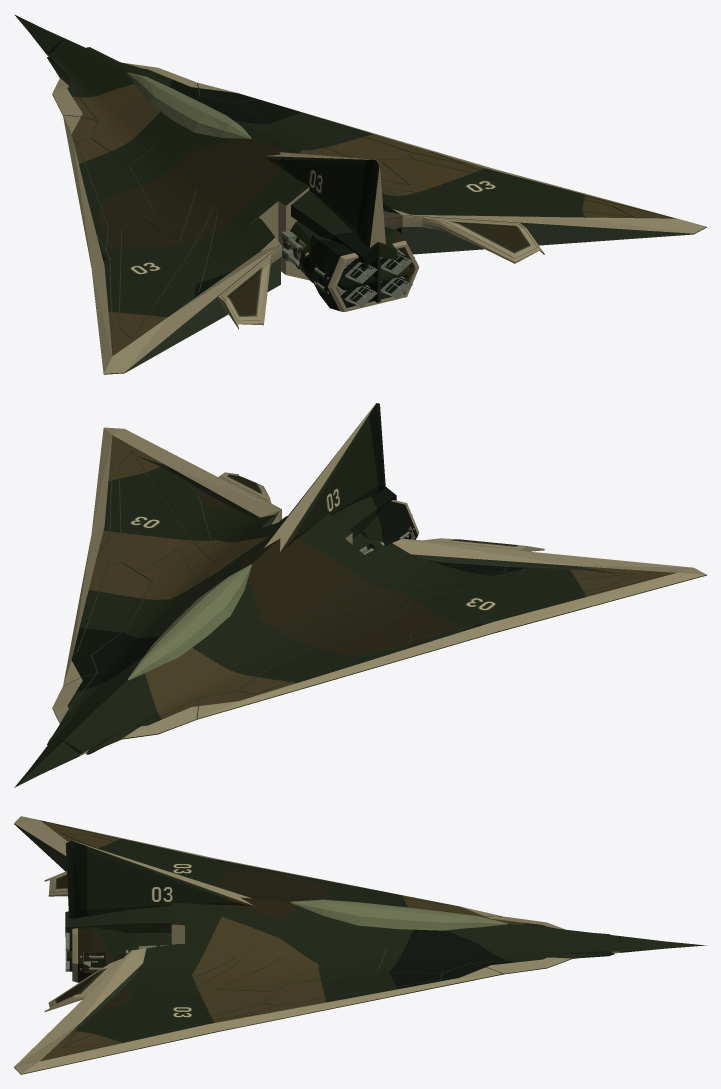
The model's file is C_military.glb.
The picture shows the model from 3 angles, top to bottom: view 1: azimuth 30°, elevation 25°; view 2: azimuth 150°, elevation 25°; view 3: azimuth 270°, elevation 25°; orthographic projection. The views are drawn at different scales.
Visible parts, largest first — view 1: AF_MAIN_WING_L_01, AF_MAIN_WING_R_01, AF_BODY_01, AF_MATCH_TAIL_CENTER, AF_REAR_WING_R2_R_flush_trailing_extension_no_intrusion, AF_DOME_CENTER_01, AF_MATCH_AFT_SADDLE, AF_REAR_WING_R2_R_flush_trailing_extension_no_intrusion_L, AF_ENGINE_E3_common_hexagonal_armored_housing, AF_ENGINE_E3_common_mouth_beveled_rim, AF_ENGINE_E3_single_bell_distribution_housing, AF_ENGINE_E3_central_horizontal_cell_web; view 2: AF_MAIN_WING_L_01, AF_MAIN_WING_R_01, AF_BODY_01, AF_MATCH_TAIL_CENTER, AF_DOME_CENTER_01, AF_MATCH_AFT_SADDLE, AF_ENGINE_E3_common_hexagonal_armored_housing, AF_REAR_WING_R2_R_flush_trailing_extension_no_intrusion, AF_REAR_WING_R2_R_flush_trailing_extension_no_intrusion_L; view 3: AF_MAIN_WING_R_01, AF_BODY_01, AF_MAIN_WING_L_01, AF_MATCH_TAIL_CENTER, AF_DOME_CENTER_01, AF_MATCH_AFT_SADDLE, AF_ENGINE_E3_common_hexagonal_armored_housing, AF_REAR_WING_R2_R_flush_trailing_extension_no_intrusion, AF_ENGINE_E3_single_bell_distribution_housing, AF_REAR_WING_R2_R_flush_trailing_extension_no_intrusion_L.
Boxes of the visible parts, x1,y1,x2,y2 form: AF_MAIN_WING_L_01: (47,56,280,374); AF_MAIN_WING_R_01: (86,47,706,254); AF_BODY_01: (14,14,309,280); AF_MATCH_TAIL_CENTER: (264,152,385,247); AF_REAR_WING_R2_R_flush_trailing_extension_no_intrusion: (383,211,544,263); AF_DOME_CENTER_01: (127,72,251,138); AF_MATCH_AFT_SADDLE: (261,162,396,268); AF_REAR_WING_R2_R_flush_trailing_extension_no_intrusion_L: (218,245,281,329); AF_ENGINE_E3_common_hexagonal_armored_housing: (307,226,414,310); AF_ENGINE_E3_common_mouth_beveled_rim: (327,240,419,311); AF_ENGINE_E3_single_bell_distribution_housing: (282,221,315,283); AF_ENGINE_E3_central_horizontal_cell_web: (322,266,413,290); AF_MAIN_WING_L_01: (86,539,706,754); AF_MAIN_WING_R_01: (47,427,280,744); AF_BODY_01: (14,513,375,787); AF_MATCH_TAIL_CENTER: (264,403,385,552); AF_DOME_CENTER_01: (127,564,251,680); AF_MATCH_AFT_SADDLE: (261,487,396,554); AF_ENGINE_E3_common_hexagonal_armored_housing: (360,501,417,548); AF_REAR_WING_R2_R_flush_trailing_extension_no_intrusion: (218,472,281,524); AF_REAR_WING_R2_R_flush_trailing_extension_no_intrusion_L: (402,538,544,551); AF_MAIN_WING_R_01: (14,944,614,1074); AF_BODY_01: (171,897,706,957); AF_MAIN_WING_L_01: (14,816,610,934); AF_MATCH_TAIL_CENTER: (65,840,254,918); AF_DOME_CENTER_01: (290,899,507,930); AF_MATCH_AFT_SADDLE: (65,905,238,936); AF_ENGINE_E3_common_hexagonal_armored_housing: (78,927,137,982); AF_REAR_WING_R2_R_flush_trailing_extension_no_intrusion: (44,950,132,1011); AF_ENGINE_E3_single_bell_distribution_housing: (112,932,171,960); AF_REAR_WING_R2_R_flush_trailing_extension_no_intrusion_L: (44,871,67,896).
Size of the model in its own units: 12.4 by 3.23 by 14.07.
19 materials, 7 textured.
